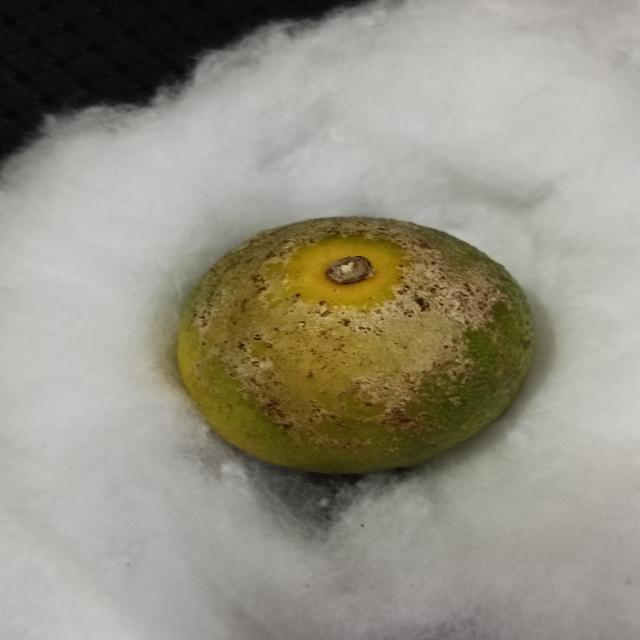thrips: (172, 216, 549, 470)
